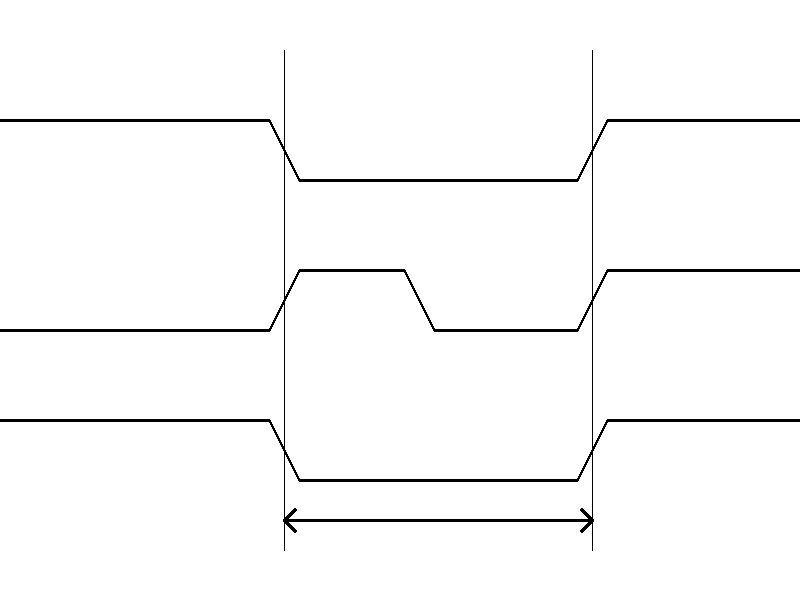double_arrow: (284, 505, 592, 535)
